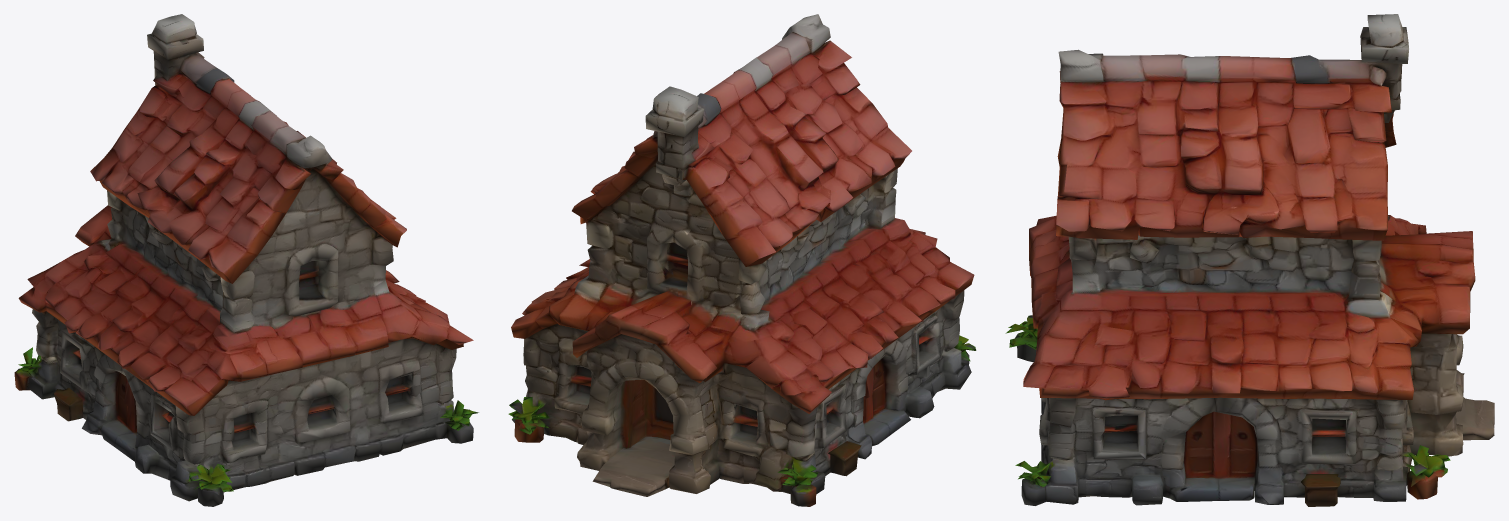
The model's file is house_stone.glb.
The picture shows the model from 3 angles, left to right: view 1: azimuth 30°, elevation 25°; view 2: azimuth 150°, elevation 25°; view 3: azimuth 270°, elevation 25°; orthographic projection. The views are drawn at different scales.
Parts seen in each view (by area): view 1: tripo_node_67370f02-4e61-4818-a763-ee4e9f488e9e; view 2: tripo_node_67370f02-4e61-4818-a763-ee4e9f488e9e; view 3: tripo_node_67370f02-4e61-4818-a763-ee4e9f488e9e.
Part boxes in pixels (left/top/right/bottom): tripo_node_67370f02-4e61-4818-a763-ee4e9f488e9e: left=14, top=14, right=478, bottom=506; tripo_node_67370f02-4e61-4818-a763-ee4e9f488e9e: left=508, top=14, right=976, bottom=506; tripo_node_67370f02-4e61-4818-a763-ee4e9f488e9e: left=1005, top=14, right=1494, bottom=506.
Size of the model in its own units: 0.8295 by 0.9106 by 1.
1 material, 1 textured.
